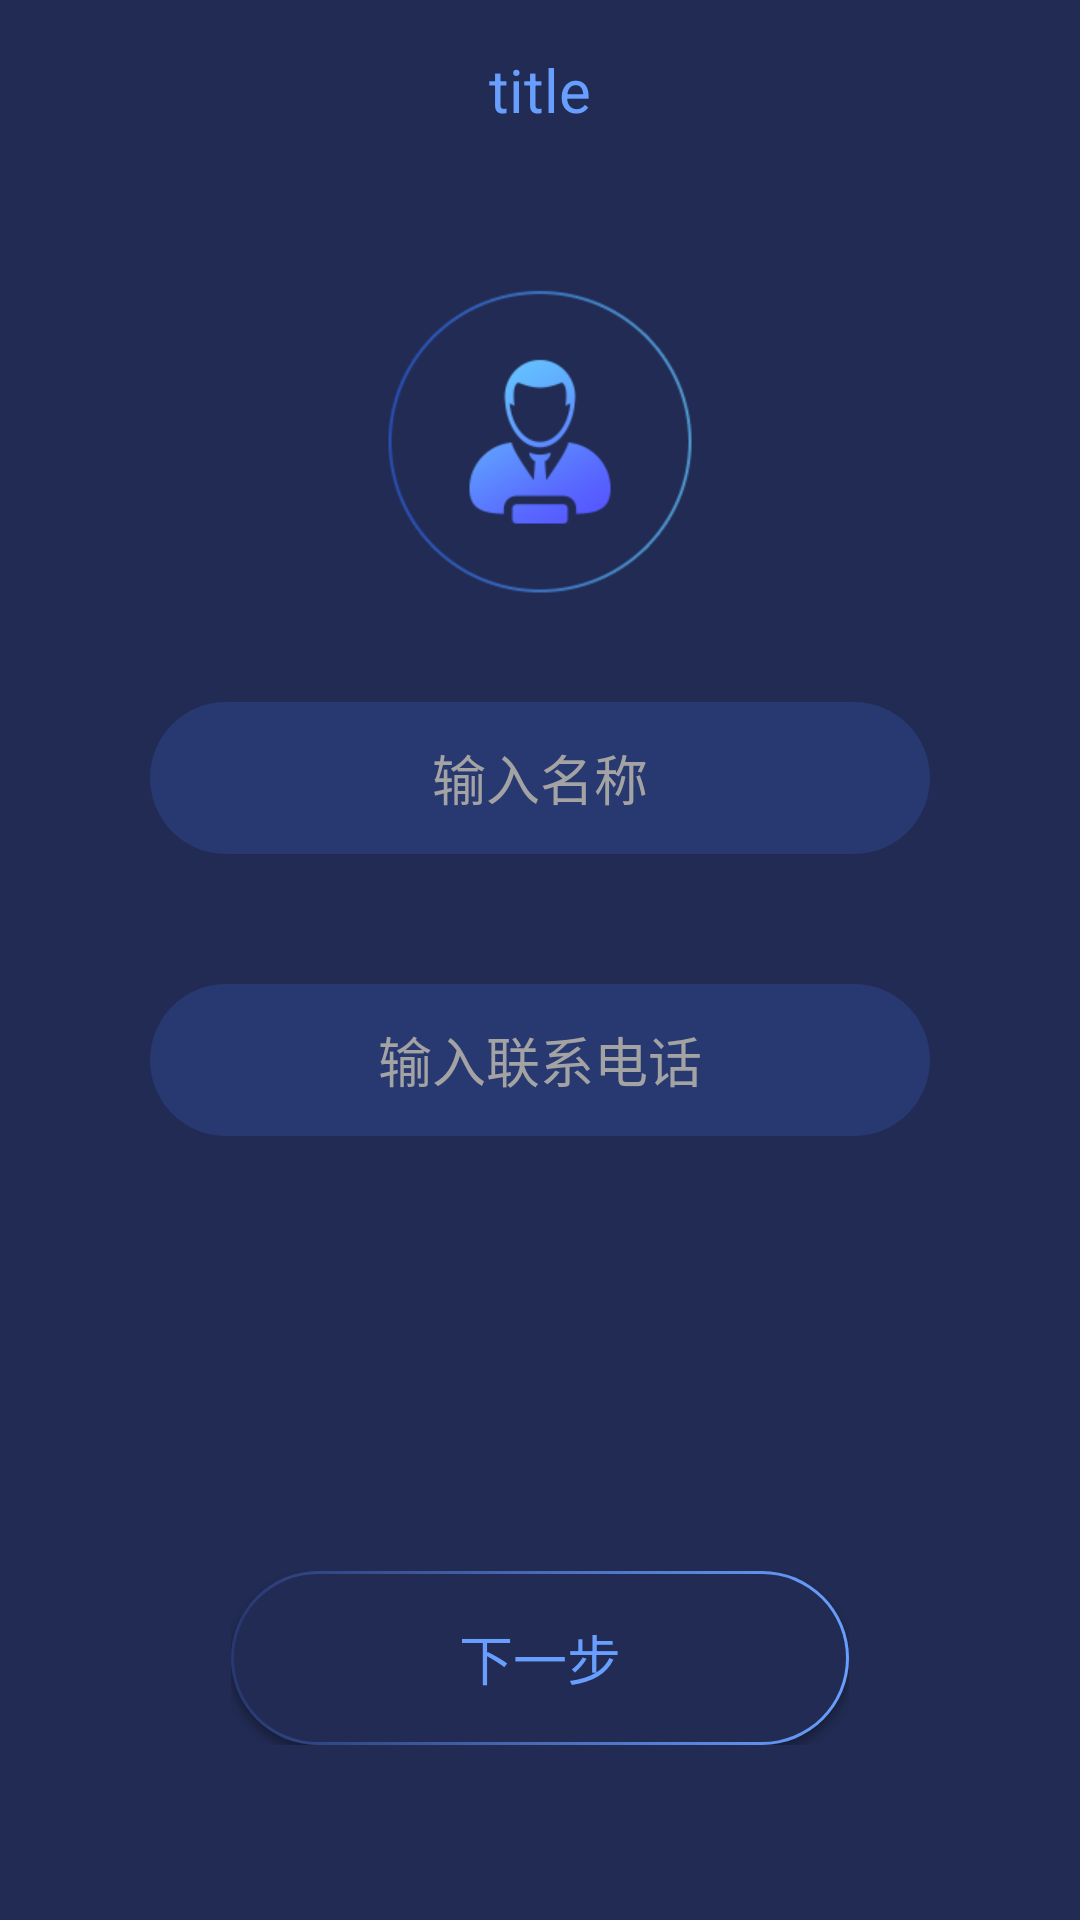

Screen size 1080×1920. Icon name, then its center in pixels as point (x, y):
head add: point (540, 442)
